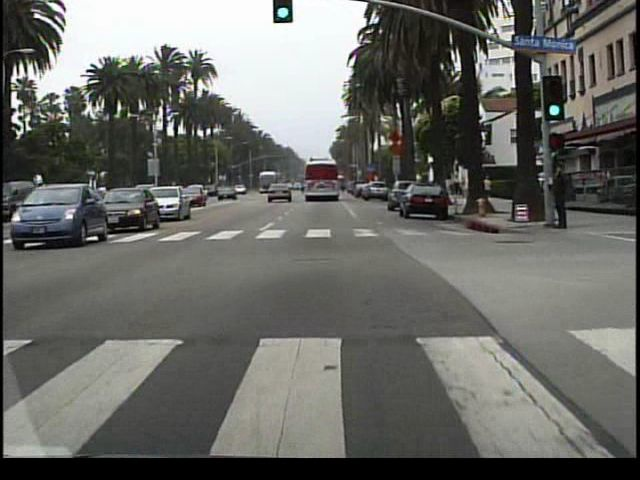person: (547, 160, 570, 234)
